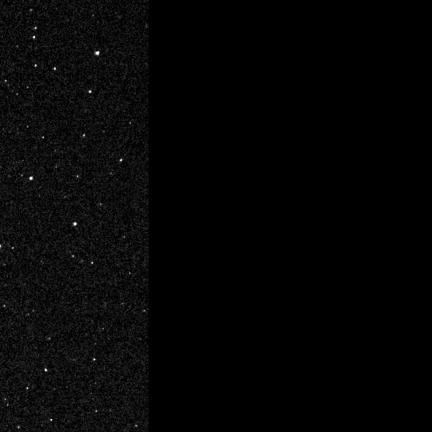blob: (74, 222, 77, 227), (95, 52, 99, 55), (33, 36, 36, 40), (89, 90, 92, 94), (120, 159, 123, 162), (54, 68, 57, 71), (45, 369, 48, 372), (83, 134, 86, 137), (30, 177, 33, 180), (93, 359, 96, 361), (35, 65, 37, 68), (92, 262, 94, 265)
